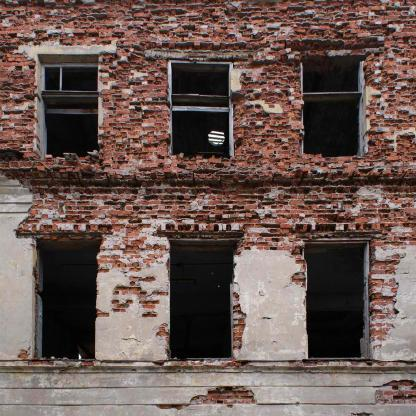Building Outline: (0, 0, 416, 416)
Facade: (0, 0, 415, 415)
Floor: (1, 208, 416, 415), (1, 0, 416, 197)
Floor Slab: (1, 197, 416, 207)
Window: (169, 238, 233, 359), (33, 239, 97, 360), (306, 239, 370, 360), (302, 55, 366, 156), (168, 59, 232, 158), (38, 54, 99, 156)
